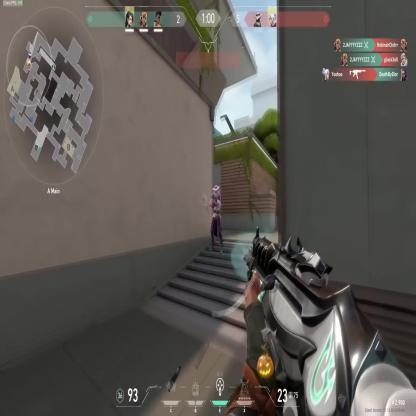enemy: (208, 181, 224, 254)
enemy_head: (214, 184, 219, 196)
